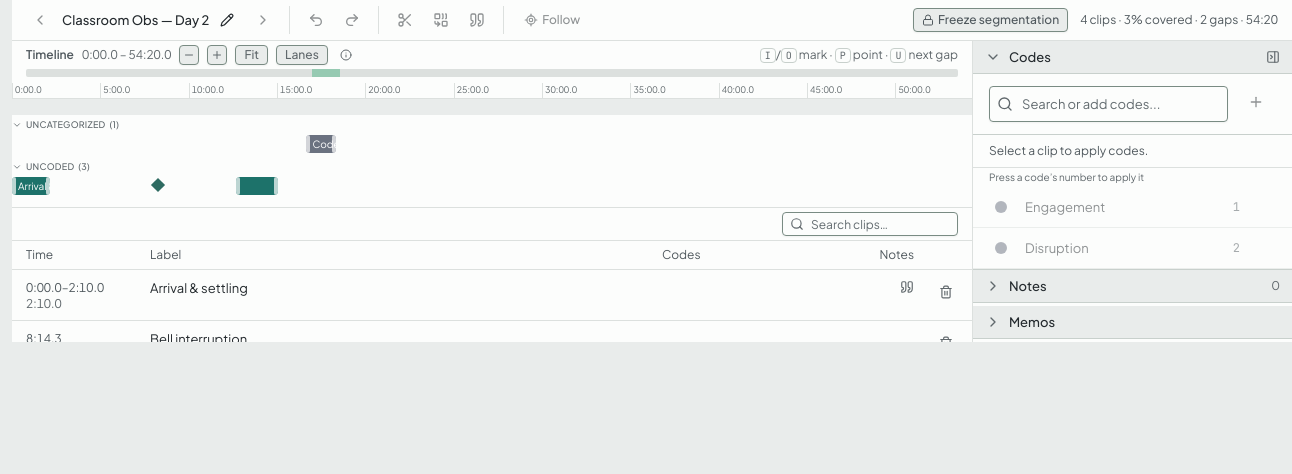
Test: #654 — the clip-row context menu › the quote item reads the WHOLE-clip shape, so a sub-clip quote does not say "Unquote"
Right-click the option "0:00.0–2:10.02:10.0 Arrival & settling".
right_click(65, 288)  # box [12, 270, 972, 321]
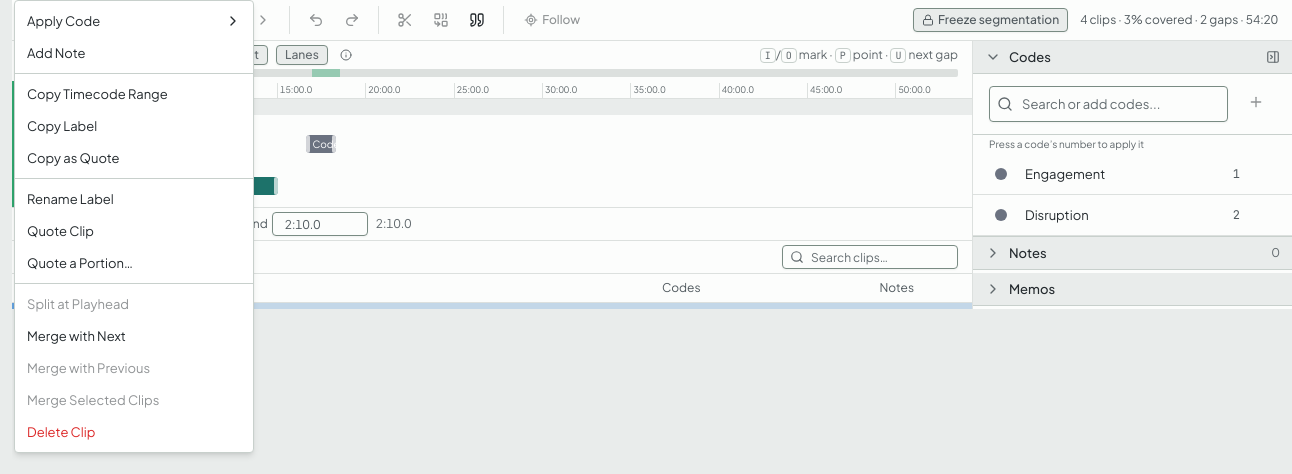
Check: the menu item "Quote Clip" is shown, box [27, 223, 94, 239]
